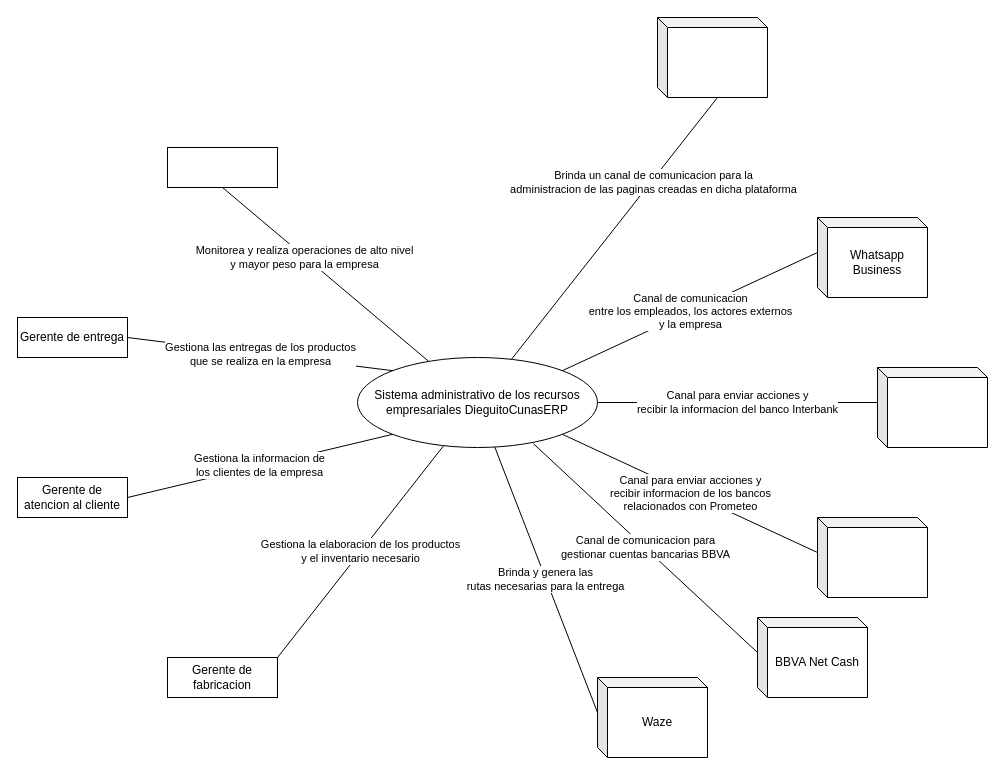
Some shapes in this 1005 by 775 pixel diagram are drawn without their labels. Each missing label, with the centre of its shape:
Administrador: point (222, 167)
Facebook Business: point (712, 57)
OpenBanking Interbank: point (932, 407)
OpenBanking Prometeo: point (872, 557)
